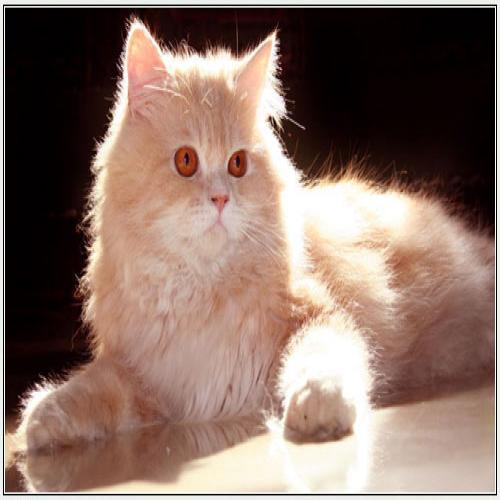persian: (107, 13, 285, 289)
